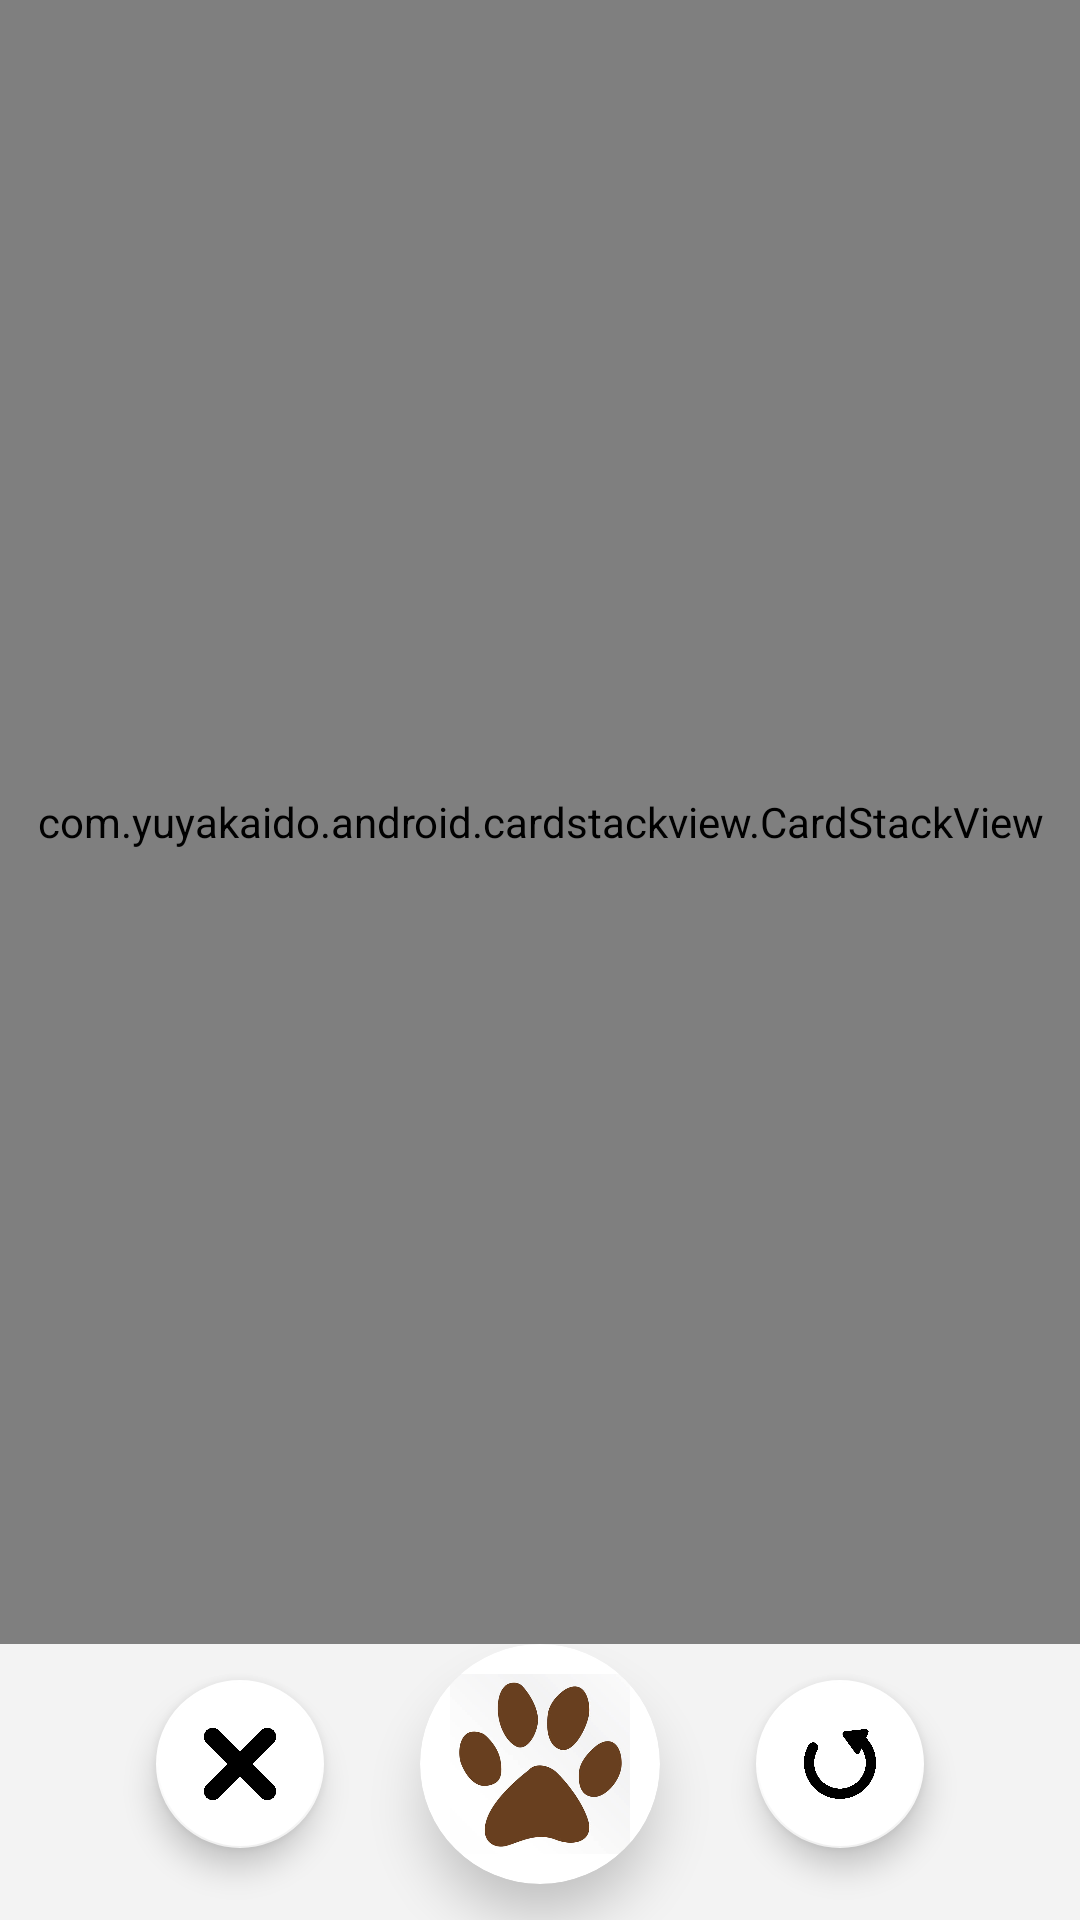

Screen size 1080px x 1920px. Icon name, then its box in pixels as (x1, y1, x2, y2):
close cross: (204, 1728, 276, 1800)
paw: (459, 1682, 622, 1847)
undo: (756, 1680, 924, 1848)
